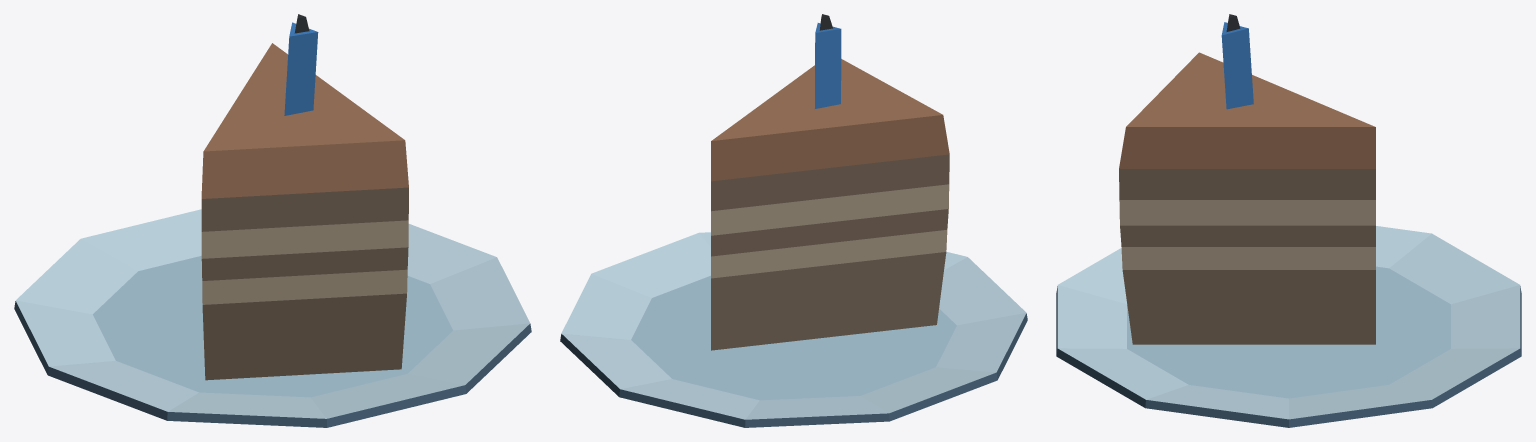
File: SM_Prop_Cake_Slice_02.fbx
The picture shows the model from 3 angles, left to right: view 1: azimuth 30°, elevation 25°; view 2: azimuth 150°, elevation 25°; view 3: azimuth 270°, elevation 25°; orthographic projection. The views are drawn at different scales.
Parts seen in each view (by area): view 1: SM_Prop_Cake_Slice_02; view 2: SM_Prop_Cake_Slice_02; view 3: SM_Prop_Cake_Slice_02.
Boxes of the visible parts, left/top/right/bottom form: SM_Prop_Cake_Slice_02: left=14, top=14, right=531, bottom=427; SM_Prop_Cake_Slice_02: left=560, top=14, right=1027, bottom=427; SM_Prop_Cake_Slice_02: left=1056, top=14, right=1521, bottom=427.
Bounding box in the file's own units: 35.53 × 26.78 × 33.79.
